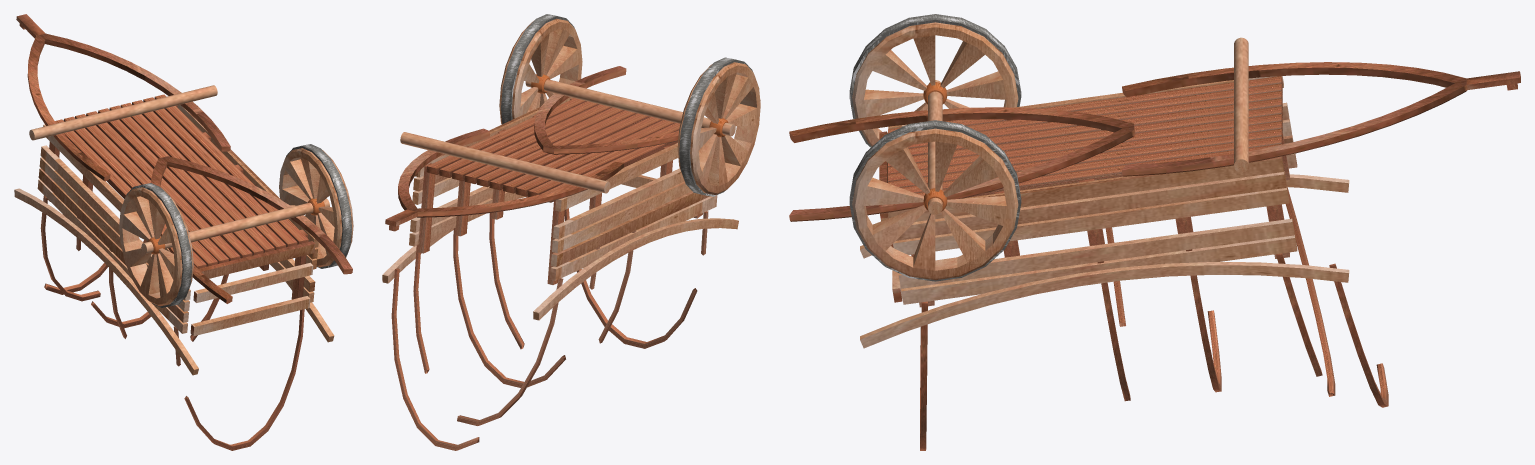
The model's file is CoveredWagon_Damaged.fbx.
3 views of the same model, side by side, from view 1: azimuth 30°, elevation 25°; view 2: azimuth 150°, elevation 25°; view 3: azimuth 270°, elevation 25° (orthographic). The views are drawn at different scales.
Parts seen in each view (by area): view 1: polySurface20; view 2: polySurface20; view 3: polySurface20.
Boxes of the visible parts, x1,y1,x2,y2 form: polySurface20: [14, 14, 353, 450]; polySurface20: [382, 14, 760, 450]; polySurface20: [789, 14, 1520, 450].
Bounding box in the file's own units: 3.46 × 4.99 × 8.82.
Materials: 4 (4 with a texture image).
